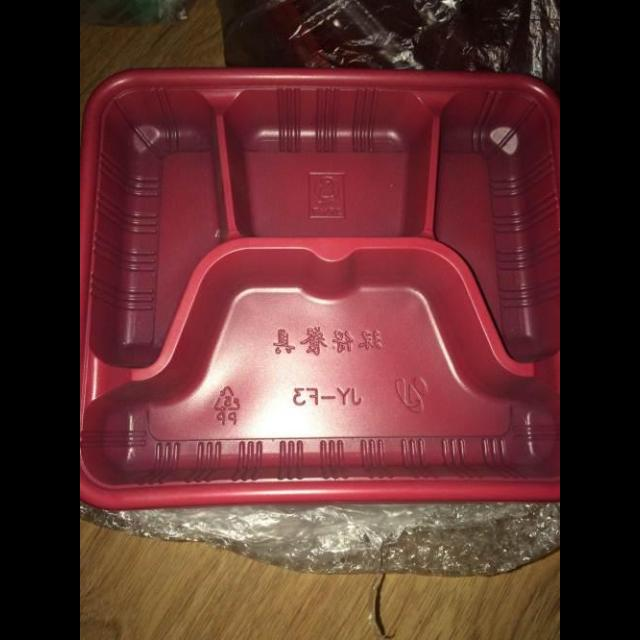plastic_box: (80, 66, 560, 510), (80, 499, 560, 579), (216, 0, 560, 86)
